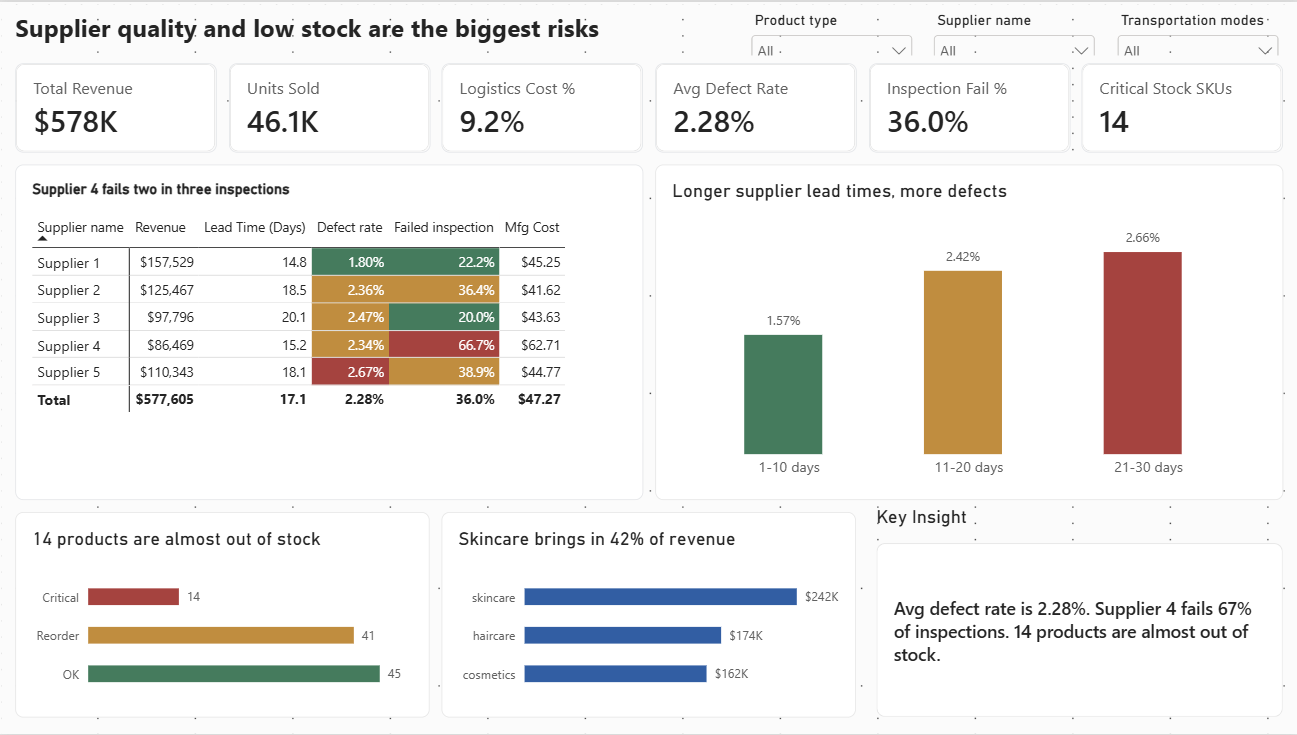

This screenshot's page, from the dashboard's own definition file:
{"tool":"powerbi","page":{"name":"Overview","canvas":[1280,720],"ordinal":0},"visuals":[{"type":"textbox","box":[16,8,700,44],"z":0},{"type":"slicer","fields":{"Values":["SupplyChain.Product type"]},"box":[736,8,168,44],"z":1000},{"type":"slicer","fields":{"Values":["SupplyChain.Supplier name"]},"box":[916,8,168,44],"z":2000},{"type":"slicer","fields":{"Values":["SupplyChain.Transportation modes"]},"box":[1096,8,168,44],"z":3000},{"type":"cardVisual","fields":{"Data":["_Measures.Total Revenue"]},"box":[16,60,198,88],"z":4000},{"type":"cardVisual","fields":{"Data":["_Measures.Units Sold"]},"box":[226,60,198,88],"z":5000},{"type":"cardVisual","fields":{"Data":["_Measures.Logistics Cost %"]},"box":[436,60,198,88],"z":6000},{"type":"cardVisual","fields":{"Data":["_Measures.Inspection Fail %"]},"box":[856,60,198,88],"z":7000},{"type":"cardVisual","fields":{"Data":["_Measures.Avg Defect Rate"]},"box":[646,60,198,88],"z":8000},{"type":"cardVisual","fields":{"Data":["_Measures.Critical Stock SKUs"]},"box":[1066,60,198,88],"z":9000},{"type":"pivotTable","title":"Supplier 4 fails two in three inspections","fields":{"Rows":["SupplyChain.Supplier name"],"Values":["_Measures.Total Revenue","_Measures.Avg Supplier Lead Time","_Measures.Avg Defect Rate","_Measures.Inspection Fail %","_Measures.Avg Mfg Cost"]},"box":[16,160,618,330],"z":10000},{"type":"clusteredColumnChart","title":"Longer supplier lead times, more defects","fields":{"Category":["SupplyChain.Lead Time Band"],"Y":["_Measures.Avg Defect Rate"]},"box":[646,160,618,330],"z":11000},{"type":"clusteredBarChart","title":"14 products are almost out of stock","fields":{"Category":["SupplyChain.Stock Status"],"Y":["_Measures.SKU Count"]},"box":[16,502,408,202],"z":12000},{"type":"clusteredBarChart","title":"Skincare brings in 42% of revenue","fields":{"Category":["SupplyChain.Product type"],"Y":["_Measures.Total Revenue"]},"box":[436,502,408,202],"z":13000},{"type":"cardVisual","title":"Key Insight","fields":{"Data":["_Measures.Headline Insight"]},"box":[864,496,400,208],"z":14000}]}

Visuals, with their boxes in screenshot pixels (x1, y1, x2, y2), scaled from the page's 1280x720 canvas onto the 1297x735 screenshot:
textbox: <region>16, 8, 726, 53</region>
slicer - SupplyChain.Product type: <region>746, 8, 916, 53</region>
slicer - SupplyChain.Supplier name: <region>928, 8, 1098, 53</region>
slicer - SupplyChain.Transportation modes: <region>1111, 8, 1281, 53</region>
cardVisual - _Measures.Total Revenue: <region>16, 61, 217, 151</region>
cardVisual - _Measures.Units Sold: <region>229, 61, 430, 151</region>
cardVisual - _Measures.Logistics Cost %: <region>442, 61, 642, 151</region>
cardVisual - _Measures.Inspection Fail %: <region>867, 61, 1068, 151</region>
cardVisual - _Measures.Avg Defect Rate: <region>655, 61, 855, 151</region>
cardVisual - _Measures.Critical Stock SKUs: <region>1080, 61, 1281, 151</region>
"Supplier 4 fails two in three inspections" pivotTable: <region>16, 163, 642, 500</region>
"Longer supplier lead times, more defects" clusteredColumnChart: <region>655, 163, 1281, 500</region>
"14 products are almost out of stock" clusteredBarChart: <region>16, 512, 430, 719</region>
"Skincare brings in 42% of revenue" clusteredBarChart: <region>442, 512, 855, 719</region>
"Key Insight" cardVisual: <region>875, 506, 1281, 719</region>
